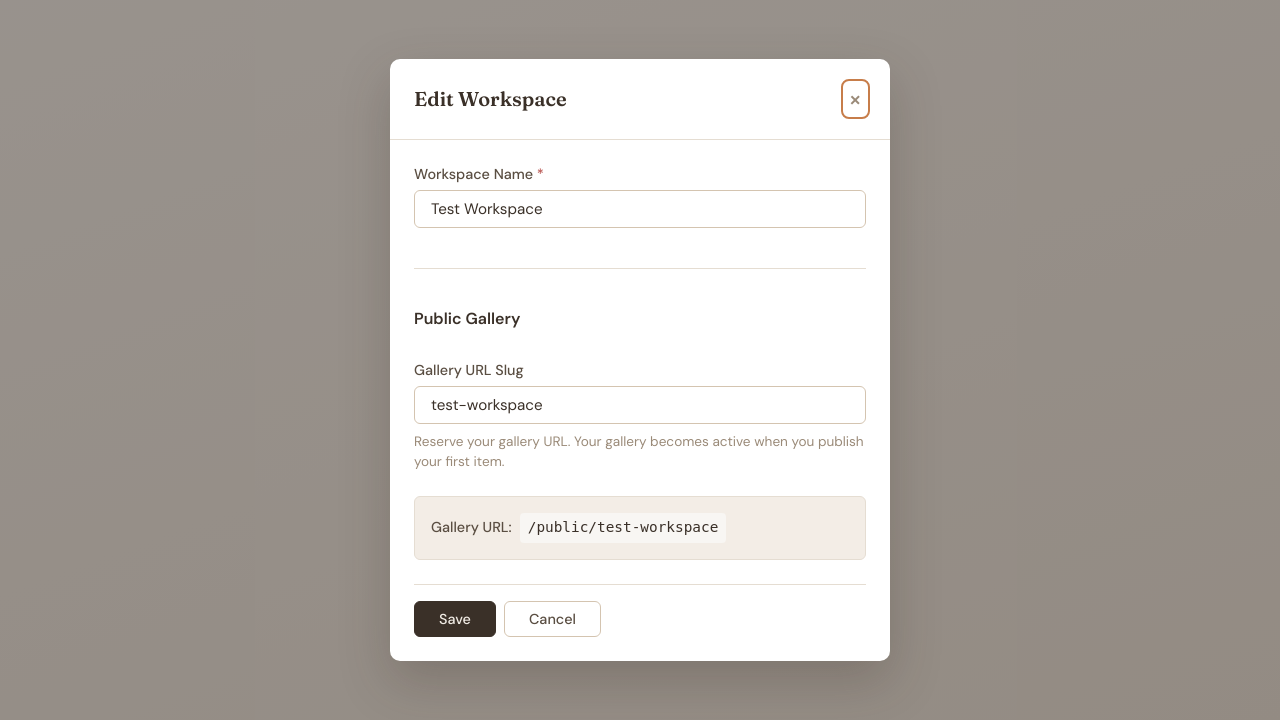
WorkspaceEditModal › form submission › should show error when name update fails
Click the button "Save".
click(455, 619)  # box [414,601,496,637]
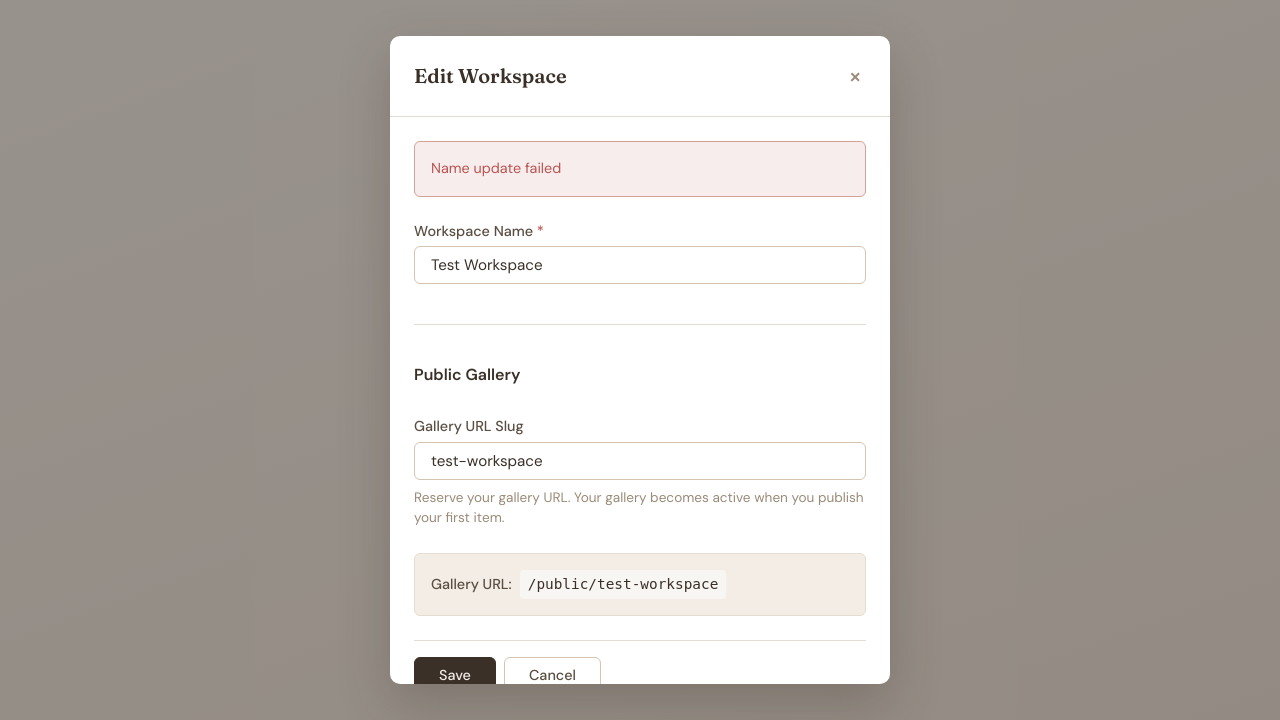
Expected: the text "Name update failed" is shown, [414,141,866,197]
